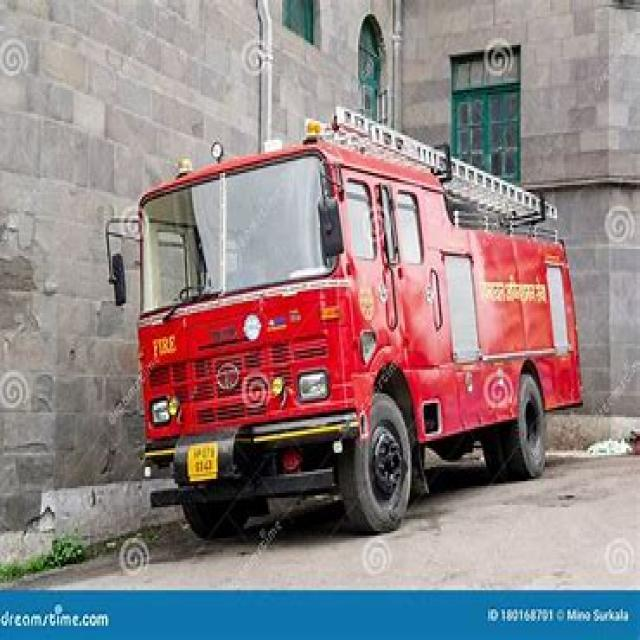Fire-engine: (104, 104, 583, 538)
